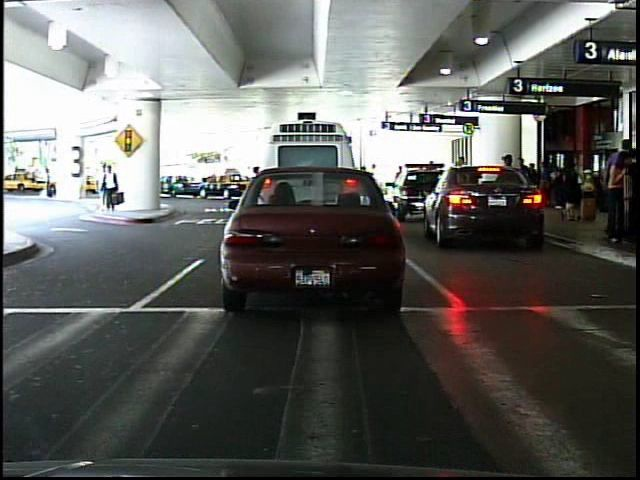person: (95, 157, 129, 214), (44, 164, 60, 203)
